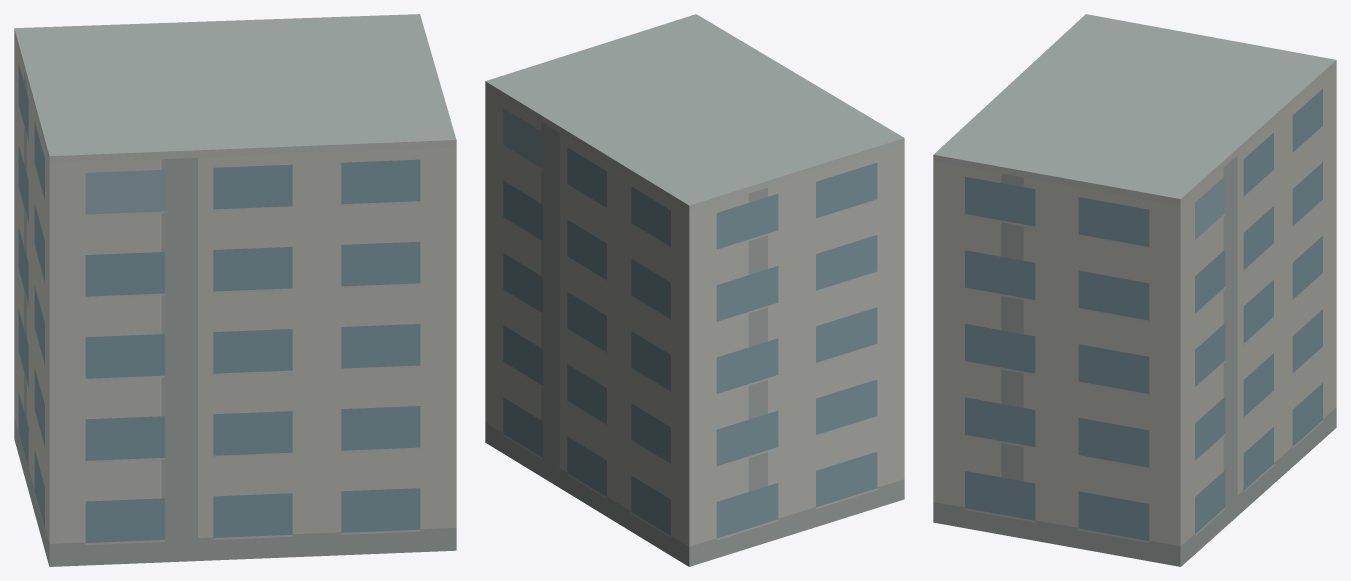
File: survey-upis-32524133.glb
The picture shows the model from 3 angles, left to right: view 1: azimuth 30°, elevation 25°; view 2: azimuth 150°, elevation 25°; view 3: azimuth 270°, elevation 25°; orthographic projection. The views are drawn at different scales.
Visible parts, largest first — view 1: survey-upis-32524133.tmp; view 2: survey-upis-32524133.tmp; view 3: survey-upis-32524133.tmp.
Boxes of the visible parts, box(x1,y1,x2,y2) form: survey-upis-32524133.tmp: box(14, 14, 456, 566); survey-upis-32524133.tmp: box(485, 14, 904, 566); survey-upis-32524133.tmp: box(933, 14, 1336, 566).
Size of the model in its own units: 14.31 by 13.25 by 13.17.
